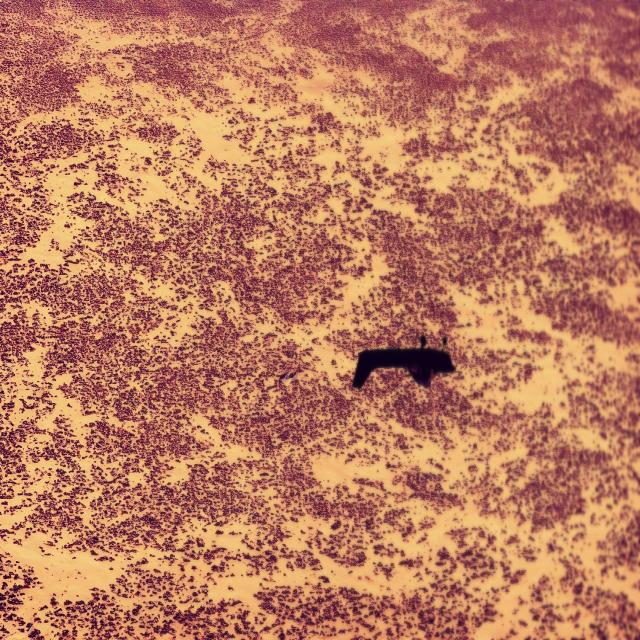airplane: (352, 333, 456, 390)
